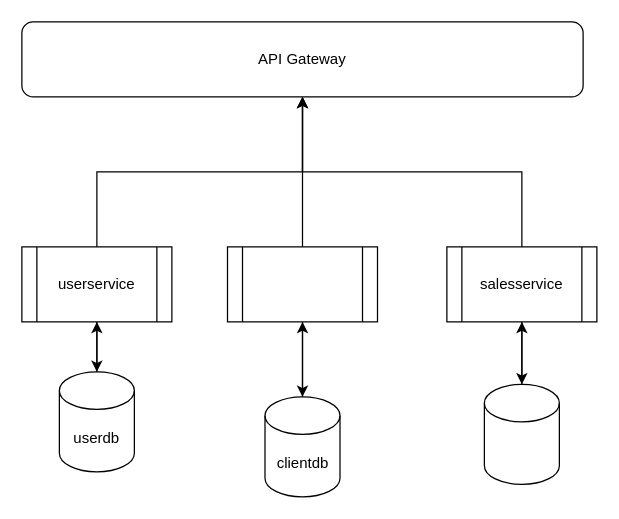
The diagram is 619 pixels wide and 519 high, and some of its shapes have lost their labels. Here are the shapes that lost their labels. From the top down, the centre of each, then its label:
At [302,284]: "clientservice".
At [521,433]: "salesdb".
